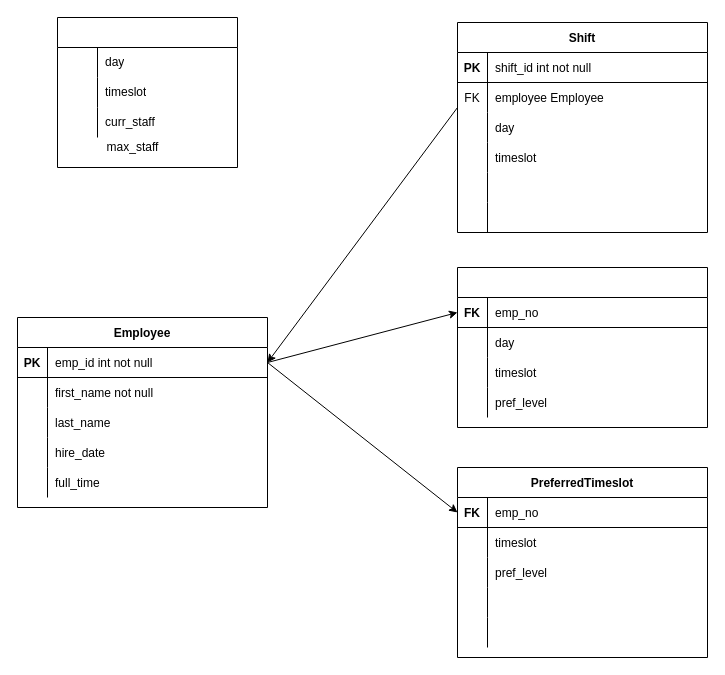
The diagram is 725 pixels wide and 675 high, and some of its shapes have lost their labels. Each missing label, with the box of its shape:
PreferredShifts: (456, 266, 708, 428)
Schedule: (56, 16, 238, 168)
